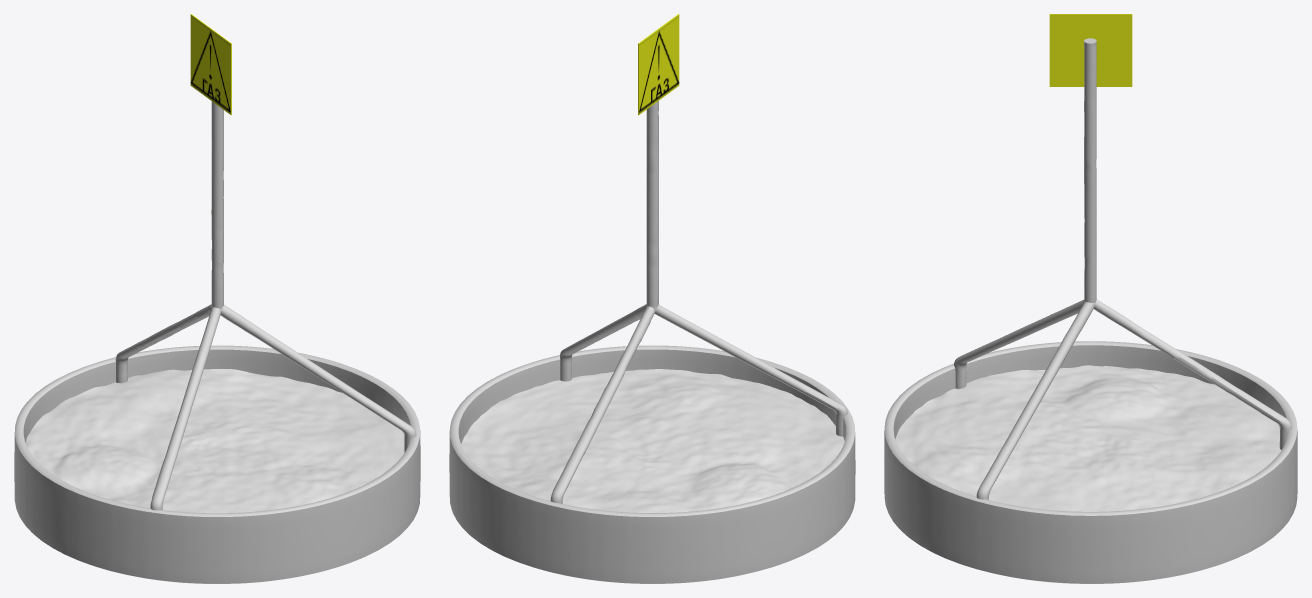
Rendered from Kolodec.fbx.
The picture shows the model from 3 angles, left to right: view 1: azimuth 30°, elevation 25°; view 2: azimuth 150°, elevation 25°; view 3: azimuth 270°, elevation 25°; orthographic projection.
Parts seen in each view (by area): view 1: Retopo_Plane.001, Retopo_Circle.010, Retopo_Circle.001, Cube.088; view 2: Retopo_Plane.001, Retopo_Circle.010, Retopo_Circle.001, Cube.088; view 3: Retopo_Plane.001, Retopo_Circle.010, Retopo_Circle.001, Cube.088.
Boxes of the visible parts, <box> form: Retopo_Plane.001: <box>25,369,404,513</box>; Retopo_Circle.010: <box>14,345,420,583</box>; Retopo_Circle.001: <box>115,101,416,510</box>; Cube.088: <box>190,14,231,115</box>; Retopo_Plane.001: <box>461,369,844,512</box>; Retopo_Circle.010: <box>449,345,855,583</box>; Retopo_Circle.001: <box>550,101,847,503</box>; Cube.088: <box>638,14,679,115</box>; Retopo_Plane.001: <box>895,365,1281,511</box>; Retopo_Circle.010: <box>884,341,1297,583</box>; Retopo_Circle.001: <box>954,38,1291,499</box>; Cube.088: <box>1049,14,1132,86</box>.
Size of the model in its own units: 321 by 412 by 321.
